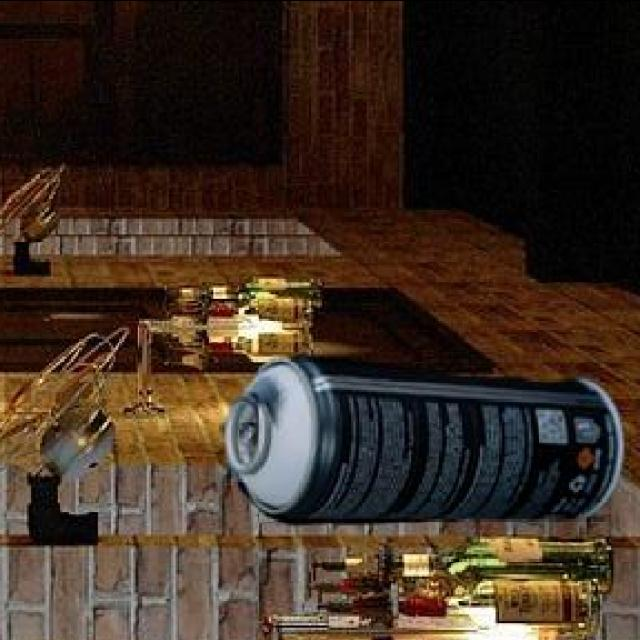logam: (226, 354, 626, 521)
